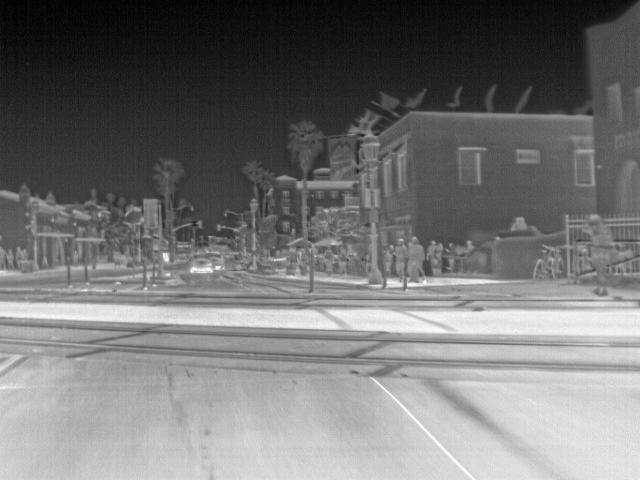car: (186, 253, 214, 279), (201, 247, 224, 273)
person: (580, 215, 614, 300), (406, 235, 427, 284), (531, 249, 555, 283), (394, 238, 410, 280), (320, 242, 335, 276), (549, 249, 566, 275), (337, 246, 349, 276), (4, 249, 17, 268), (19, 244, 32, 260)
